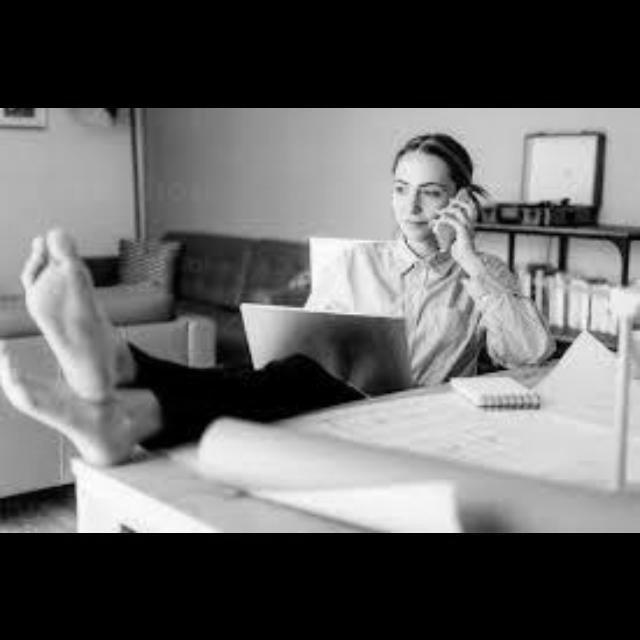fake: (406, 160, 518, 275)
